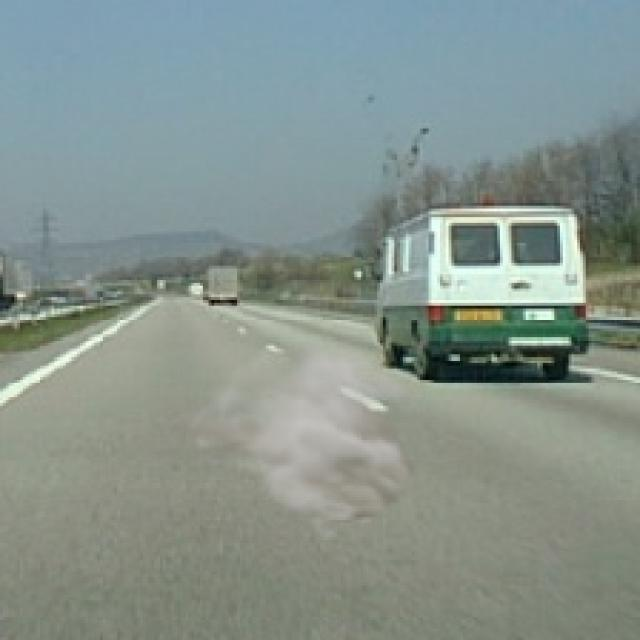Smoke: (166, 337, 440, 543)
